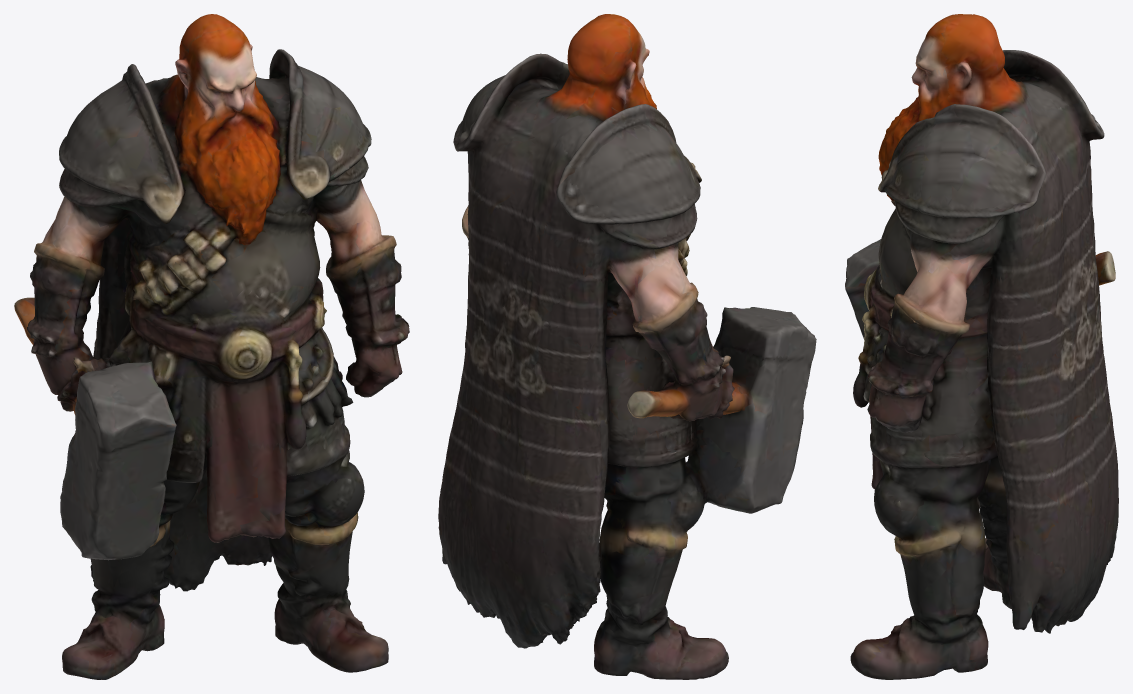
File: warrior.glb
3 views of the same model, side by side, from view 1: azimuth 30°, elevation 25°; view 2: azimuth 150°, elevation 25°; view 3: azimuth 270°, elevation 25° (orthographic). The views are drawn at different scales.
Size of the model in its own units: 1.03 by 1.91 by 0.7837.
Materials: 1 (1 with a texture image).
